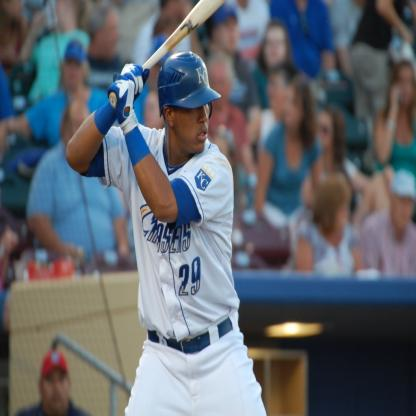Helmet: (154, 53, 216, 142)
